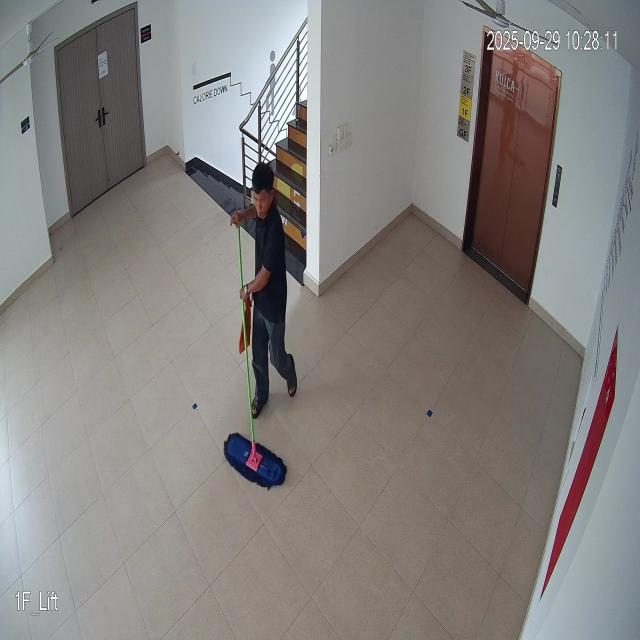face: (251, 156, 277, 223)
